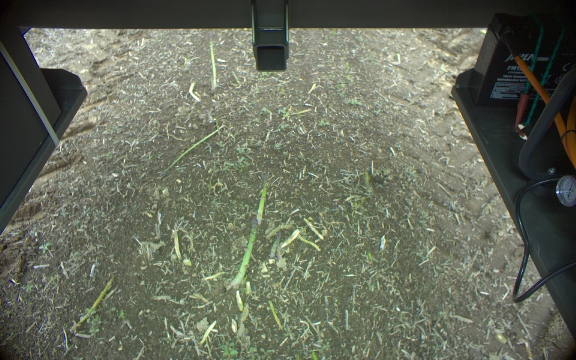aspa: (214, 216, 258, 291), (251, 172, 270, 229), (208, 33, 220, 92), (265, 226, 284, 263)
